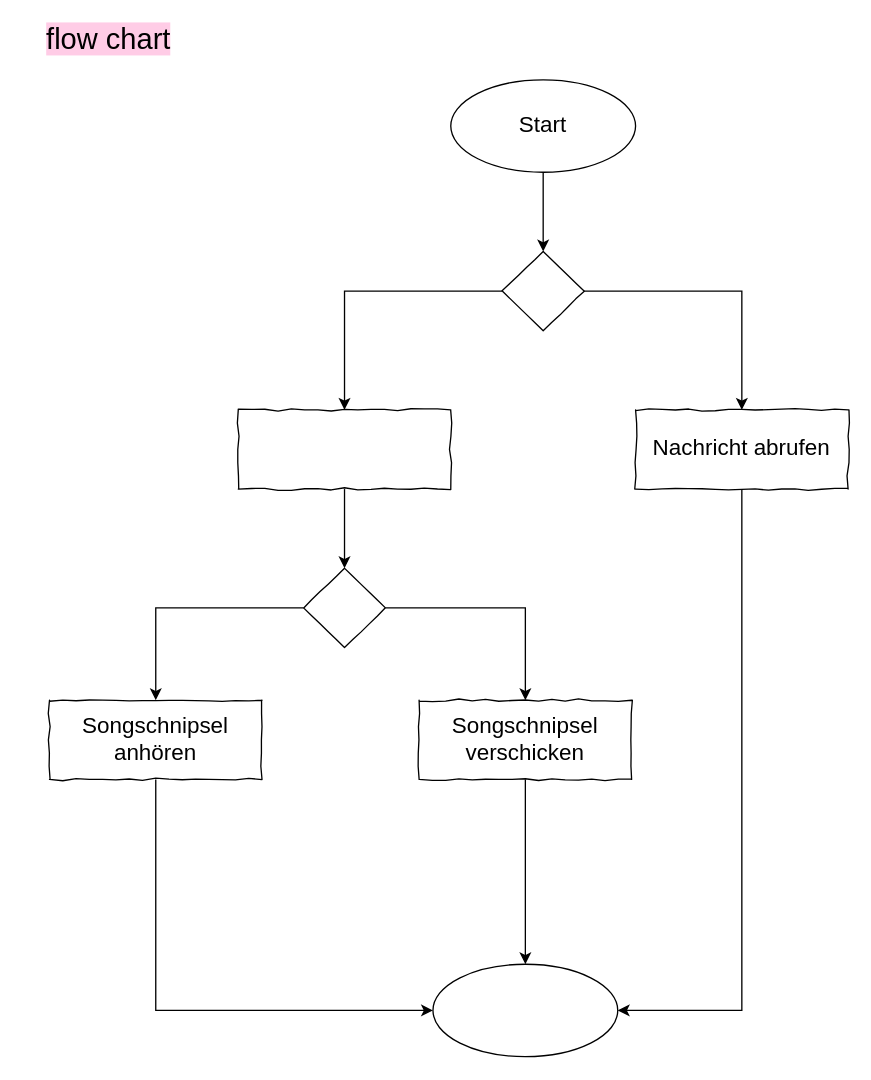
The diagram is 871 pixels wide and 1080 high, and some of its shapes have lost their labels. The shapes that lost their labels are listed below. From the top down, each one's box as (x1, y1, x2, y2) in pixels, then its label:
(237, 409, 451, 489): Songschnipsel auswählen
(432, 963, 618, 1057): Ende
